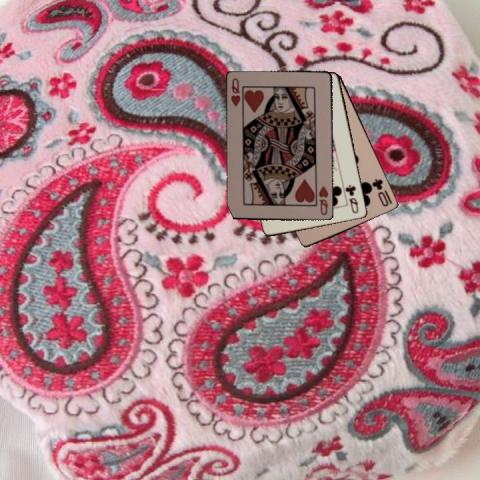10c: (370, 176, 394, 208)
Qc: (343, 181, 360, 215)
Qh: (228, 75, 242, 108), (316, 183, 329, 216)
